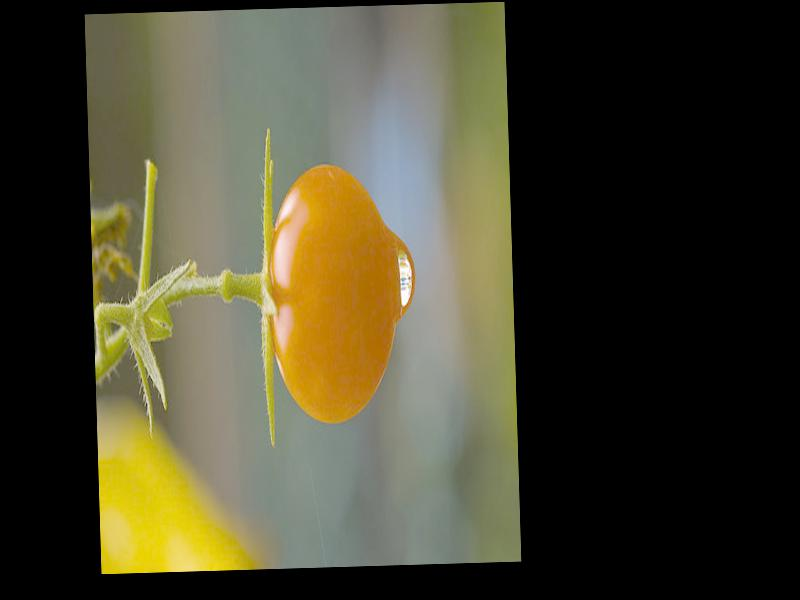Tomato: (264, 160, 399, 423)
